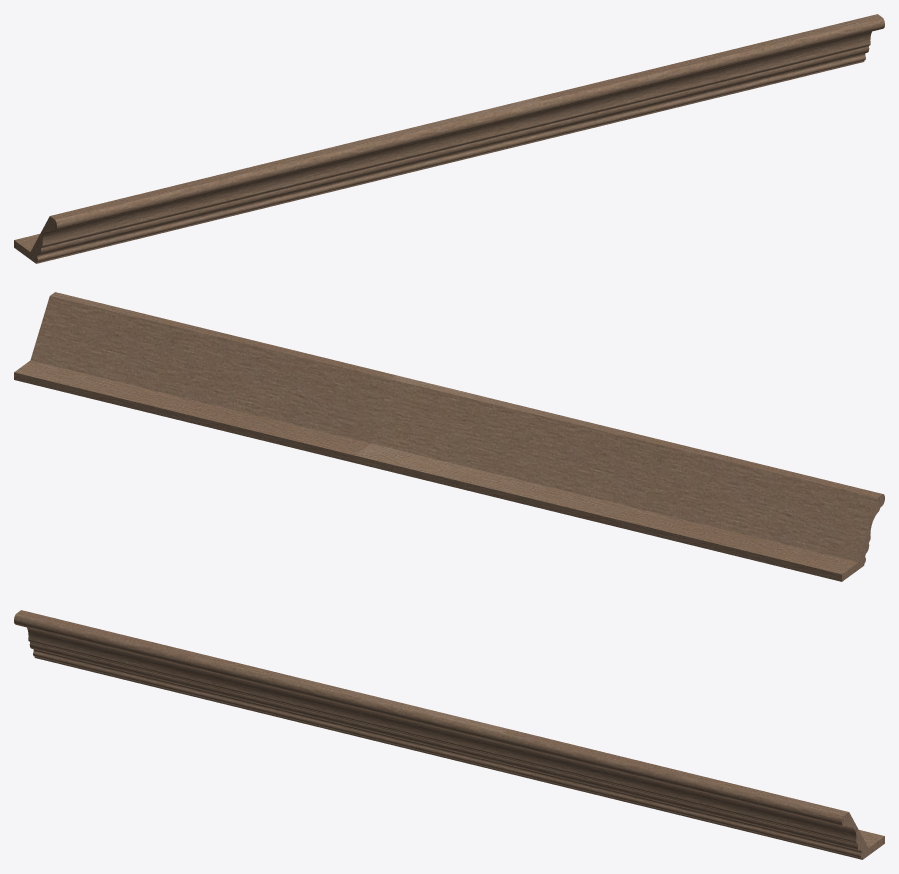
The model's file is CLC-100-135.glb.
3 renders of one model, top to bottom at view 1: azimuth 30°, elevation 25°; view 2: azimuth 150°, elevation 25°; view 3: azimuth 330°, elevation 25°, orthographic.
Visible parts, largest first — view 1: ExtrSplGeo; view 2: ExtrSplGeo; view 3: ExtrSplGeo.
Part boxes in pixels (<box>): ExtrSplGeo: <box>14,14,884,263</box>; ExtrSplGeo: <box>14,292,884,581</box>; ExtrSplGeo: <box>14,610,884,859</box>.
Size of the model in its own units: 1.5 by 0.1 by 0.135.
Materials: 1 (1 with a texture image).
